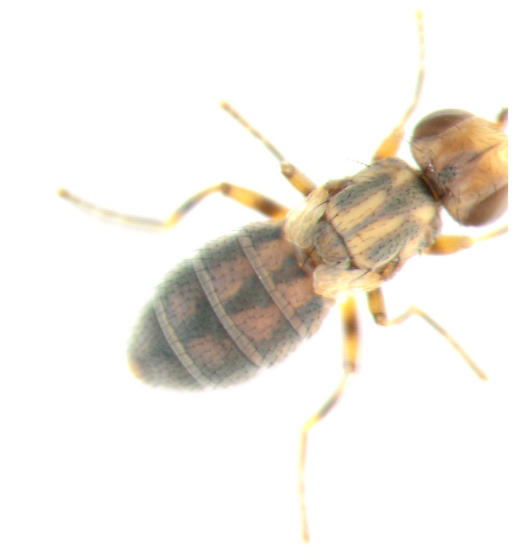Chloropidae: (60, 6, 516, 542)
